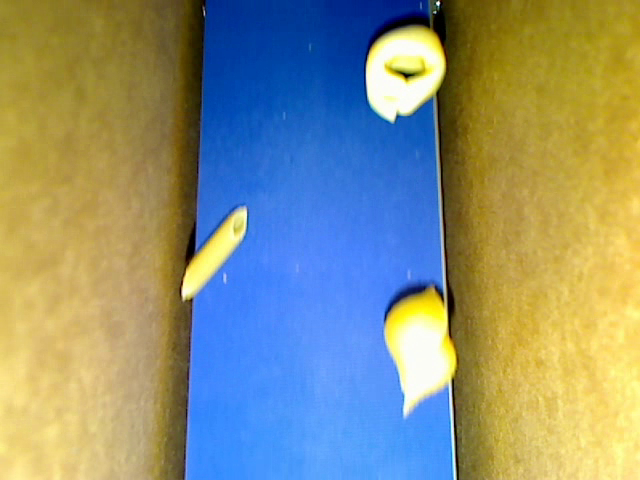penne: (180, 204, 247, 300)
shell: (383, 284, 445, 393), (400, 330, 457, 421)
tortellini: (366, 25, 447, 123)
